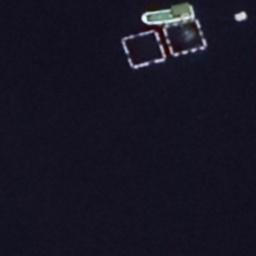square_solid: (120, 29, 168, 70), (162, 18, 208, 58)
